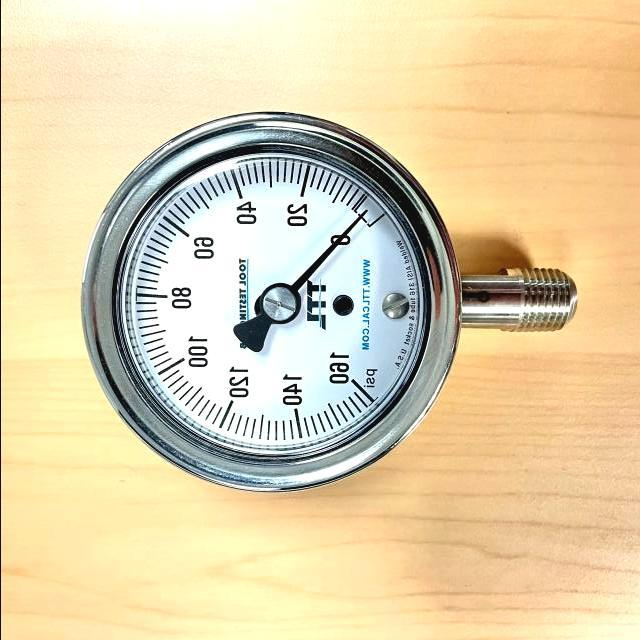Needle_base: (254, 273, 305, 331)
max_value: (322, 338, 363, 397)
min_value: (319, 203, 365, 271), (337, 196, 381, 242)
